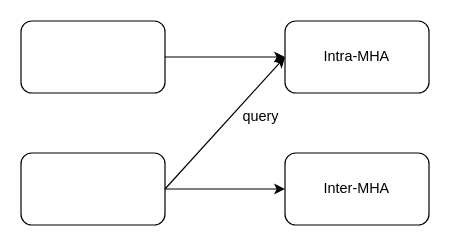
The diagram is 450 pixels wide and 246 high, and some of its shapes have lost their labels. The centre of each missing label's shape, as x and y in pixels:
Context embedding: [92,188]
Target sentence embeddding: [92,56]
